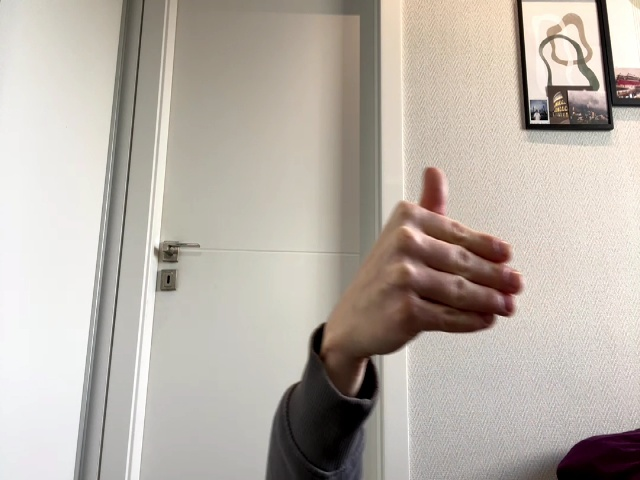M: (356, 167, 525, 374)
